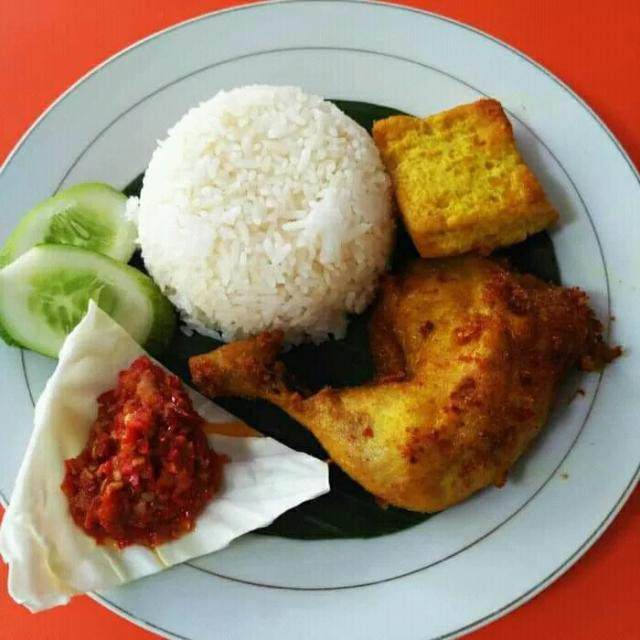ayam_goreng: (197, 286, 610, 518)
nasi_putih: (124, 100, 394, 328)
